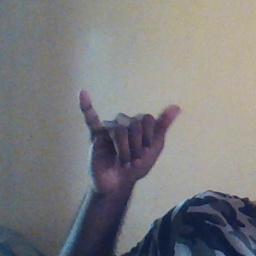J: (76, 85, 184, 193)
